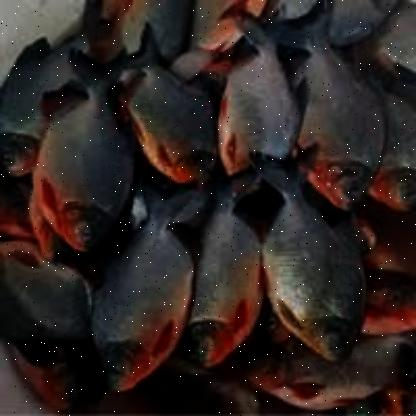ikan-pacu: (92, 187, 190, 389), (262, 178, 366, 366), (33, 52, 131, 246), (286, 17, 384, 207), (125, 54, 217, 182), (192, 183, 256, 365)
